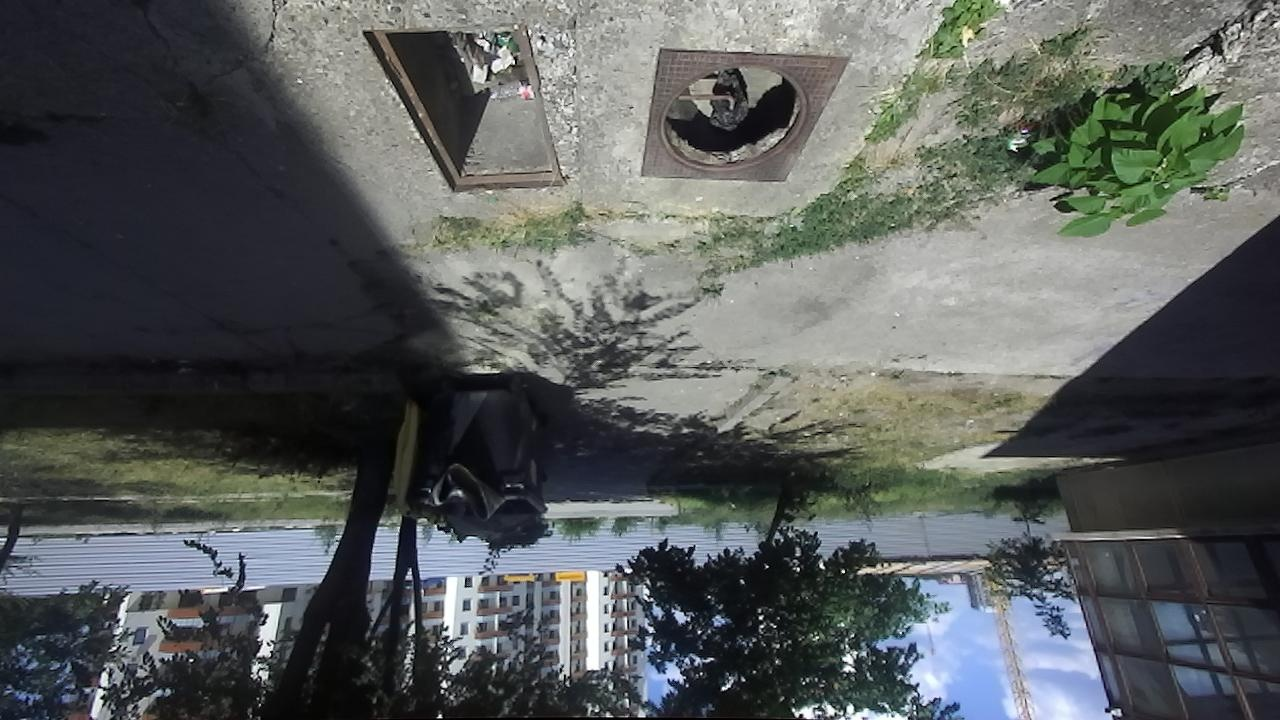drain: (360, 22, 572, 198), (658, 61, 818, 178)
